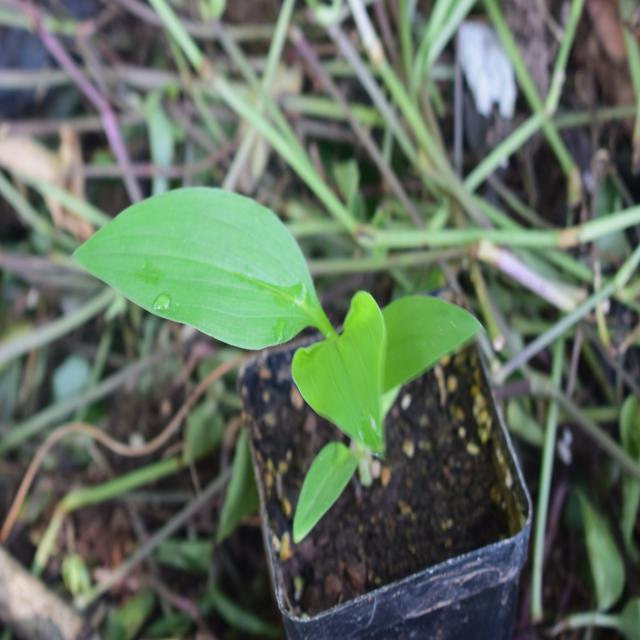Common Dayflower: (56, 167, 483, 541)
